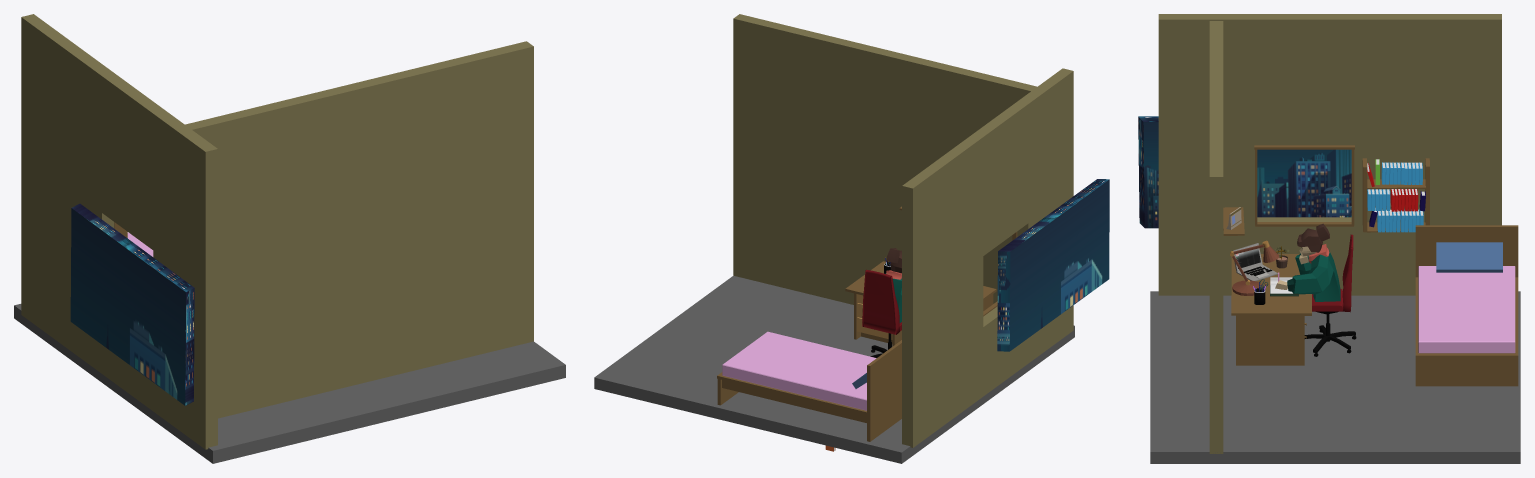
File: Final_Render.fbx
3 views of the same model, side by side, from view 1: azimuth 30°, elevation 25°; view 2: azimuth 150°, elevation 25°; view 3: azimuth 270°, elevation 25° (orthographic). The views are drawn at different scales.
Parts seen in each view (by area): view 1: Cube.030, Cube.046, Cube.031, Cube.077; view 2: Cube.030, Cube.046, Cube.031, Cube.077, bed2, Backrest; view 3: Cube.046, Cube.031, bed2, Cube.077, Cube.030, Cube.026, Cube.024, Cube.053, Box003, Cylinder.010, Backrest, Cube.075 (+5 smaller).
Boxes of the visible parts, x1,y1,x2,y2 form: Cube.030: (185,41,533,418); Cube.046: (21,14,217,449); Cube.031: (14,304,565,463); Cube.077: (70,203,194,405); Cube.030: (733,14,1036,304); Cube.046: (902,68,1073,447); Cube.031: (594,275,1074,463); Cube.077: (997,179,1109,351); bed2: (717,331,901,441); Backrest: (862,269,899,334); Cube.046: (1158,14,1501,295); Cube.031: (1150,291,1520,463); bed2: (1415,225,1518,386); Cube.077: (1138,116,1351,228); Cube.030: (1209,21,1223,453); Cube.026: (1236,315,1304,365); Cube.024: (1231,254,1311,315); Cube.053: (1436,242,1502,272); Box003: (1292,248,1340,301); Cylinder.010: (1230,240,1279,295); Backrest: (1342,234,1353,312); Cube.075: (1254,145,1354,149).
Size of the model in its own units: 8424 by 6793 by 7750.
120 materials, 2 textured.
